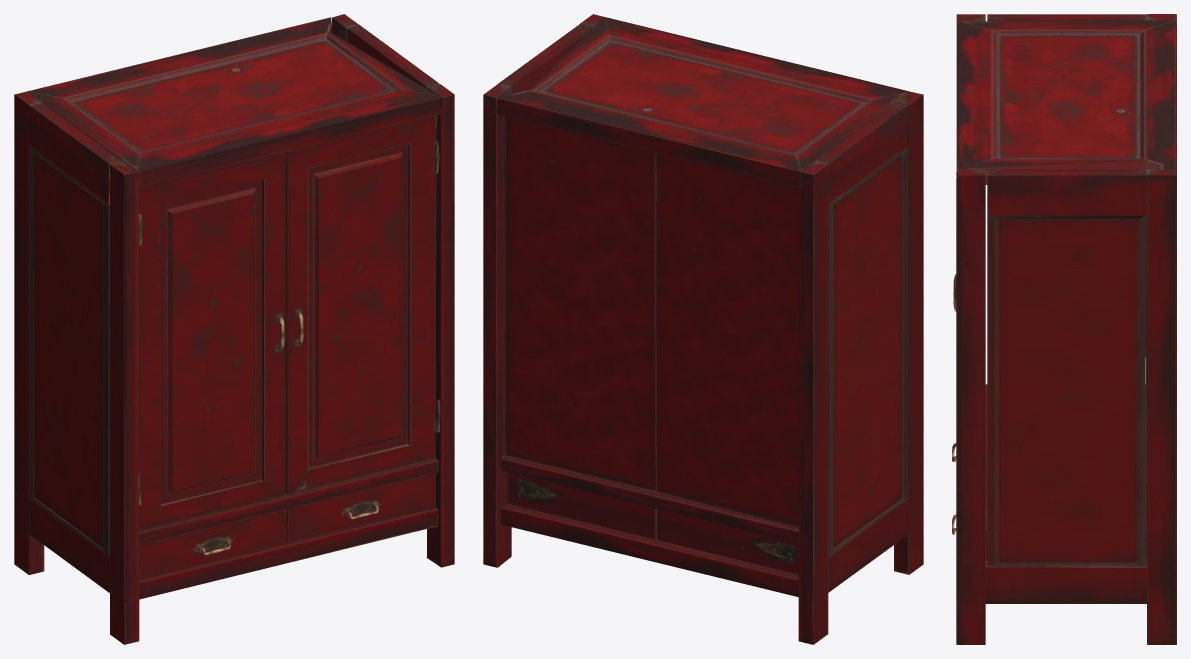
File: wardrobe.glb
The picture shows the model from 3 angles, left to right: view 1: azimuth 30°, elevation 25°; view 2: azimuth 150°, elevation 25°; view 3: azimuth 270°, elevation 25°; orthographic projection.
Size of the model in its own units: 1.4 by 1.9 by 0.8237.
1 material, 1 textured.
